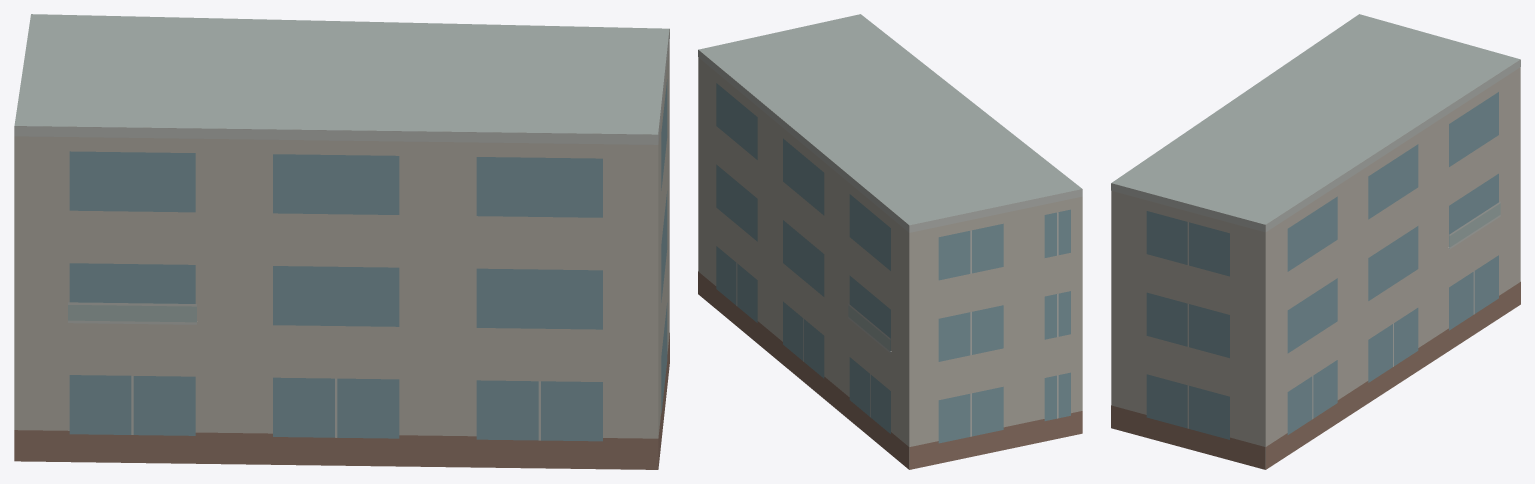
Rendered from survey-upis-32488207.glb.
3 renders of one model, left to right at view 1: azimuth 30°, elevation 25°; view 2: azimuth 150°, elevation 25°; view 3: azimuth 270°, elevation 25°, orthographic. The views are drawn at different scales.
Visible parts, largest first — view 1: survey-upis-32488207.tmp; view 2: survey-upis-32488207.tmp; view 3: survey-upis-32488207.tmp.
Boxes of the visible parts, bbox=[...] form: survey-upis-32488207.tmp: bbox=[14, 14, 669, 469]; survey-upis-32488207.tmp: bbox=[698, 14, 1082, 469]; survey-upis-32488207.tmp: bbox=[1111, 14, 1520, 469].
Bounding box in the file's own units: 14.58 × 7.9 × 11.98.
